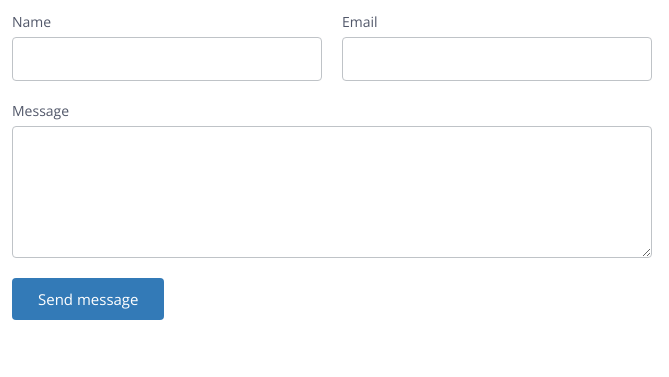
ContactForm › shows a success message and clears the form after a successful send
This screenshot has width=669, height=377.
Type "Jane Doe" into the field labelled "Name" at [167, 59], box [12, 37, 322, 81]
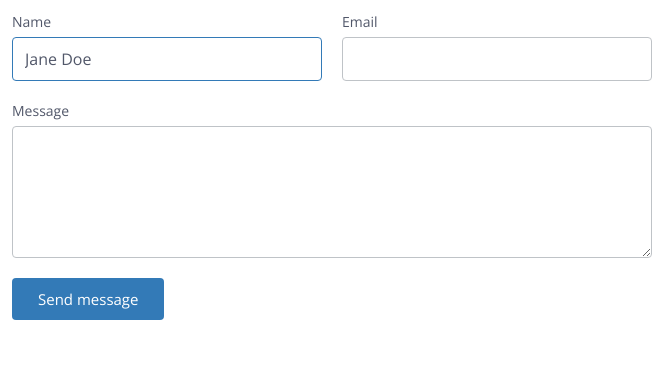
Type "jane@example.com" into the field labelled "Email" at [497, 59], box [342, 37, 652, 81]
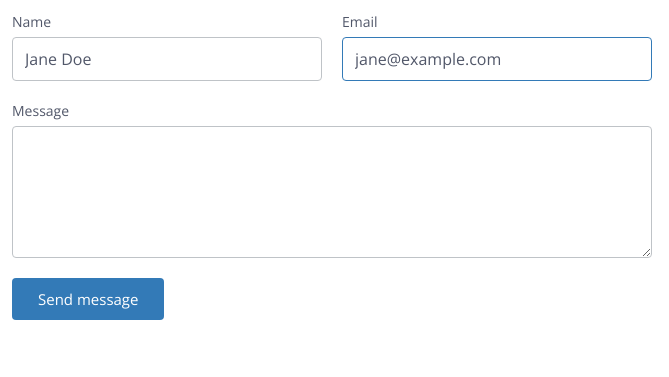
Type "Hello there" into the text box labelled "Message" at [332, 192], box [12, 126, 652, 258]
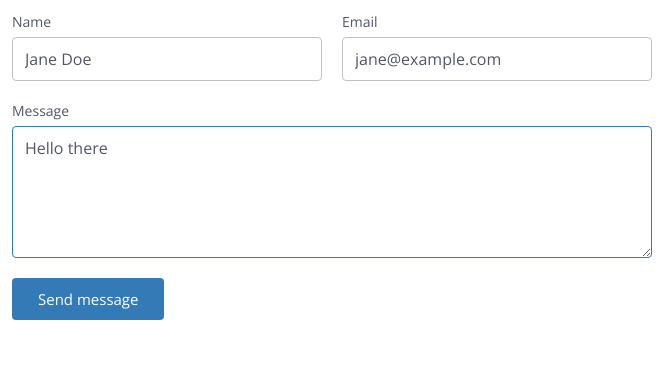
Click the button "Send message" at [88, 299], box [12, 278, 164, 320]
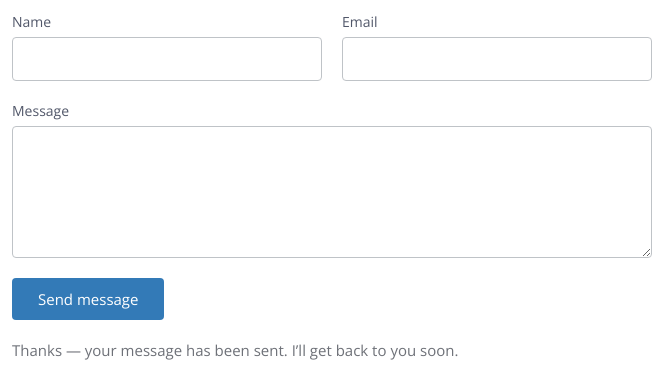
Expected: the text "Thanks — your message has been sent. I’ll get back to you soon." is shown, [12, 340, 458, 360]
Expected: the field labelled "Name" is empty, [12, 37, 322, 81]
Expected: the text box labelled "Message" is empty, [12, 126, 652, 258]
